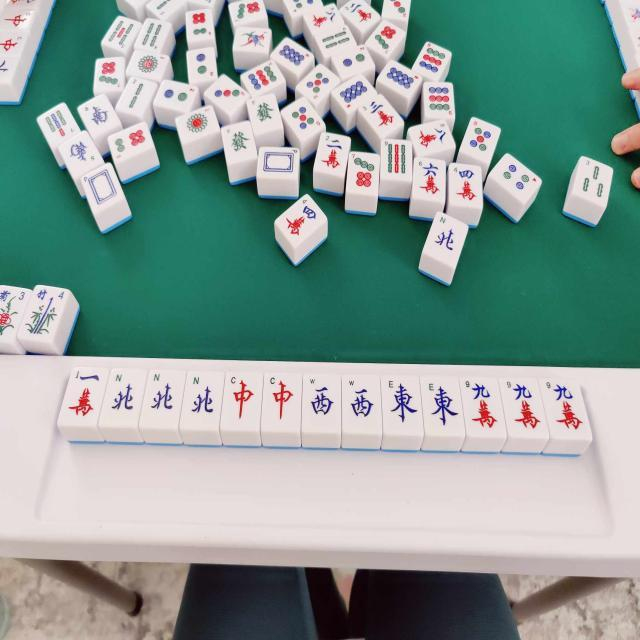bf4: (24, 286, 68, 340)
hdr: (266, 376, 298, 424), (227, 374, 255, 424)
hwe: (384, 378, 418, 430), (425, 379, 458, 432)
hwn: (110, 369, 136, 419), (150, 371, 178, 417), (189, 374, 216, 420)
hww: (344, 377, 379, 427), (305, 376, 338, 426)
sc1: (67, 370, 100, 423)
sc9: (546, 380, 584, 430), (505, 380, 540, 432), (465, 379, 498, 429)
